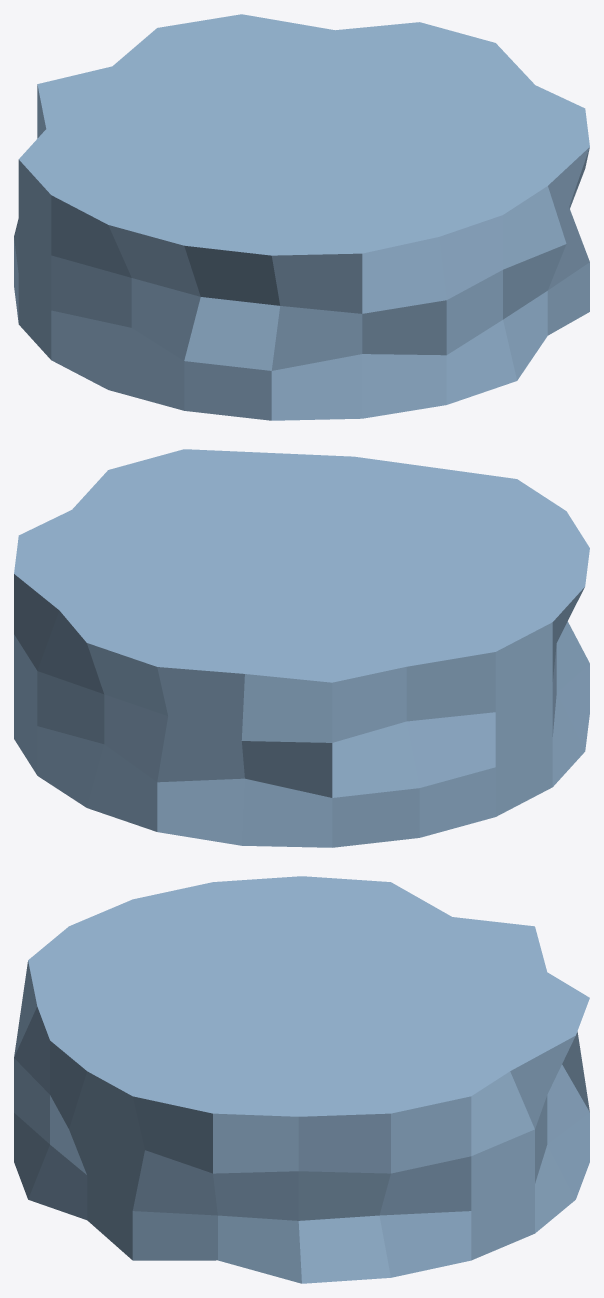
File: IceObstacle.gltf
3 views of the same model, one above another, from view 1: azimuth 30°, elevation 25°; view 2: azimuth 150°, elevation 25°; view 3: azimuth 270°, elevation 25° (orthographic).
Visible parts, largest first — view 1: Cylinder; view 2: Cylinder; view 3: Cylinder.
Boxes of the visible parts, x1,y1,x2,y2 form: Cylinder: [14, 14, 589, 420]; Cylinder: [14, 449, 589, 847]; Cylinder: [14, 876, 589, 1283].
Size of the model in its own units: 13.44 by 4.23 by 13.44.
